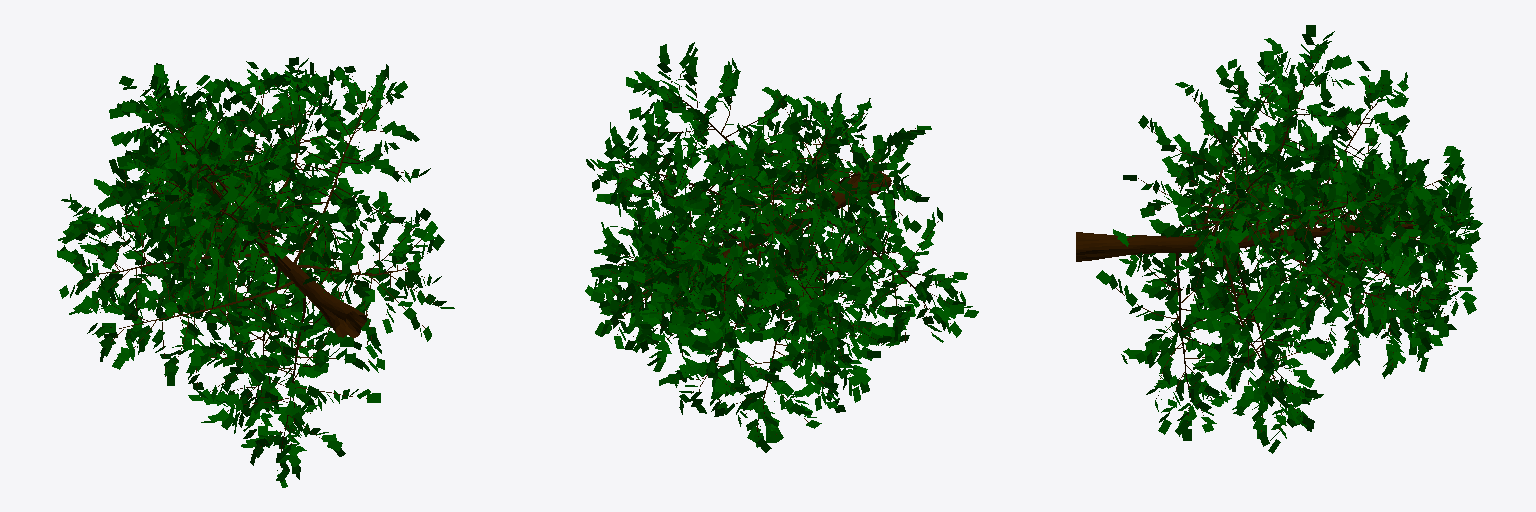
The model's file is tree.obj.
The picture shows the model from 3 angles: view 1: azimuth 30°, elevation 25°; view 2: azimuth 150°, elevation 25°; view 3: azimuth 270°, elevation 25°; orthographic projection.
Visible parts, largest first — view 1: elm2_f; view 2: elm2_f; view 3: elm2_f.
Part boxes in pixels (x1,y1,x2,y2): elm2_f: (57, 57, 454, 487); elm2_f: (585, 42, 978, 452); elm2_f: (1076, 25, 1482, 453).
Bounding box in the file's own units: 1.91 × 1.9 × 1.85.